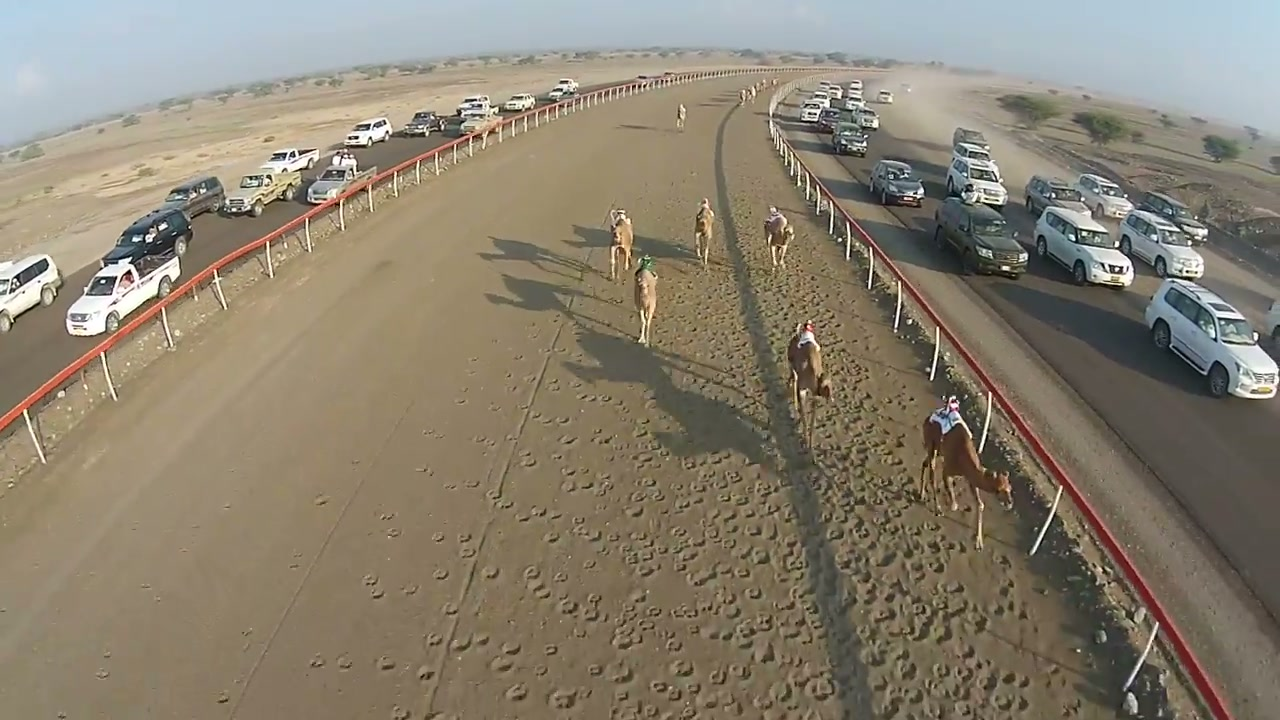animal_foot_print: (348, 342, 1064, 719), (758, 270, 880, 424)
